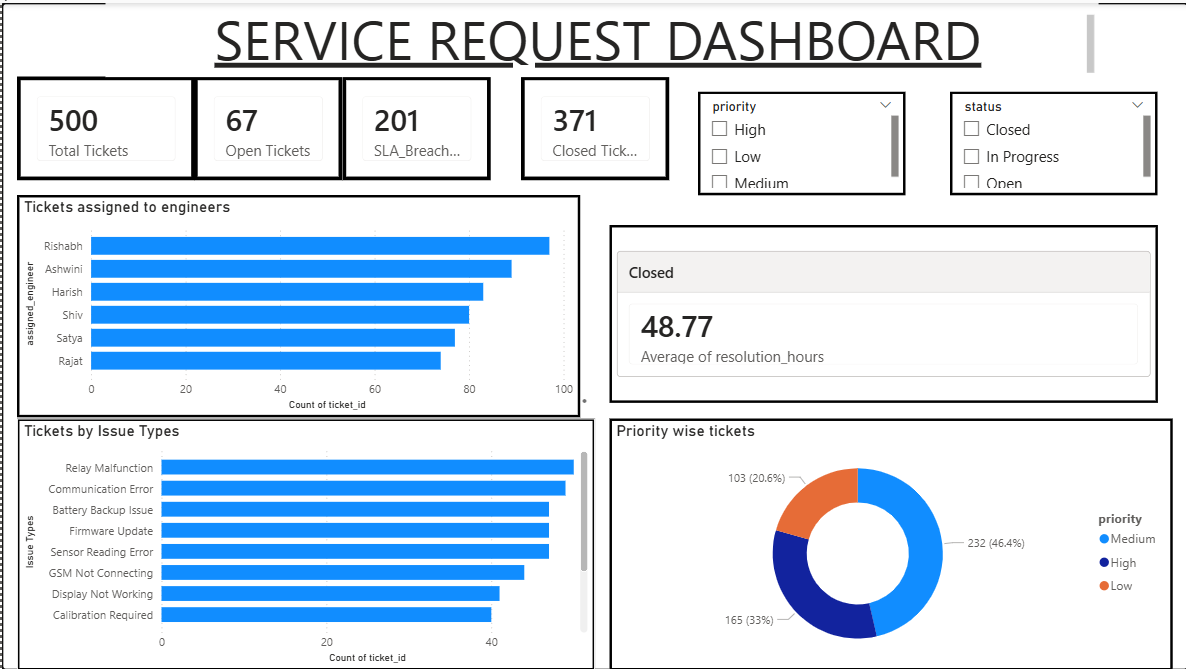

The dashboard page shown, as its layout file describes it:
{"tool":"powerbi","page":{"name":"Page 1","canvas":[1280,720],"ordinal":0},"visuals":[{"type":"cardVisual","fields":{"Data":["Count(public service_request_dashboard.ticket_id)"]},"box":[16,80,192,112],"z":0},{"type":"slicer","fields":{"Values":["public service_request_dashboard.priority"]},"box":[752,96,224,112],"z":1000},{"type":"slicer","fields":{"Values":["public service_request_dashboard.status"]},"box":[1024,96,224,112],"z":2000},{"type":"cardVisual","fields":{"Data":["Count(public service_request_dashboard.ticket_id)"]},"box":[208,80,160,112],"z":3000},{"type":"cardVisual","fields":{"Data":["CountNonNull(public service_request_dashboard.sla_status)1"]},"box":[368,80,160,112],"z":4000},{"type":"cardVisual","fields":{"Data":["Avg(public service_request_dashboard.resolution_hours)"],"Rows":["public service_request_dashboard.status"]},"box":[656,240,592,192],"z":5000},{"type":"donutChart","title":"Priority wise tickets","fields":{"Category":["public service_request_dashboard.priority"],"Y":["CountNonNull(public service_request_dashboard.issue_type)"]},"box":[656,448,608,272],"z":6000},{"type":"barChart","title":"Tickets by Issue Types","fields":{"Category":["public service_request_dashboard.issue_type"],"Y":["CountNonNull(public service_request_dashboard.ticket_id)"]},"box":[16,448,624,272],"z":7000},{"type":"clusteredBarChart","title":"Tickets assigned to engineers","fields":{"Category":["public service_request_dashboard.assigned_engineer"],"Y":["CountNonNull(public service_request_dashboard.ticket_id)"]},"box":[16,208,608,240],"z":8000},{"type":"cardVisual","fields":{"Data":["Count(public service_request_dashboard.ticket_id)"]},"box":[560,80,160,112],"z":9000},{"type":"textbox","box":[112,0,1072,80],"z":10000}]}

Visuals, with their boxes in screenshot pixels (x1, y1, x2, y2), scaled from the page's 1280x720 canvas onto the 1186x669 screenshot:
cardVisual - Count(public service_request_dashboard.ticket_id): pyautogui.locateOnScreen(15, 74, 193, 178)
slicer - public service_request_dashboard.priority: pyautogui.locateOnScreen(697, 89, 904, 193)
slicer - public service_request_dashboard.status: pyautogui.locateOnScreen(949, 89, 1156, 193)
cardVisual - Count(public service_request_dashboard.ticket_id): pyautogui.locateOnScreen(193, 74, 341, 178)
cardVisual - CountNonNull(public service_request_dashboard.sla_status)1: pyautogui.locateOnScreen(341, 74, 489, 178)
cardVisual - Avg(public service_request_dashboard.resolution_hours) x public service_request_dashboard.status: pyautogui.locateOnScreen(608, 223, 1156, 401)
"Priority wise tickets" donutChart: pyautogui.locateOnScreen(608, 416, 1171, 668)
"Tickets by Issue Types" barChart: pyautogui.locateOnScreen(15, 416, 593, 668)
"Tickets assigned to engineers" clusteredBarChart: pyautogui.locateOnScreen(15, 193, 578, 416)
cardVisual - Count(public service_request_dashboard.ticket_id): pyautogui.locateOnScreen(519, 74, 667, 178)
textbox: pyautogui.locateOnScreen(104, 0, 1097, 74)
